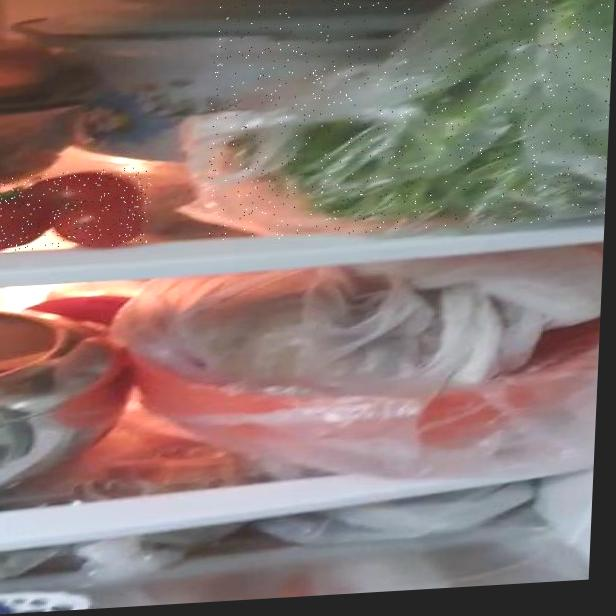lettuce: (205, 0, 616, 244)
tomato: (0, 167, 152, 252)
